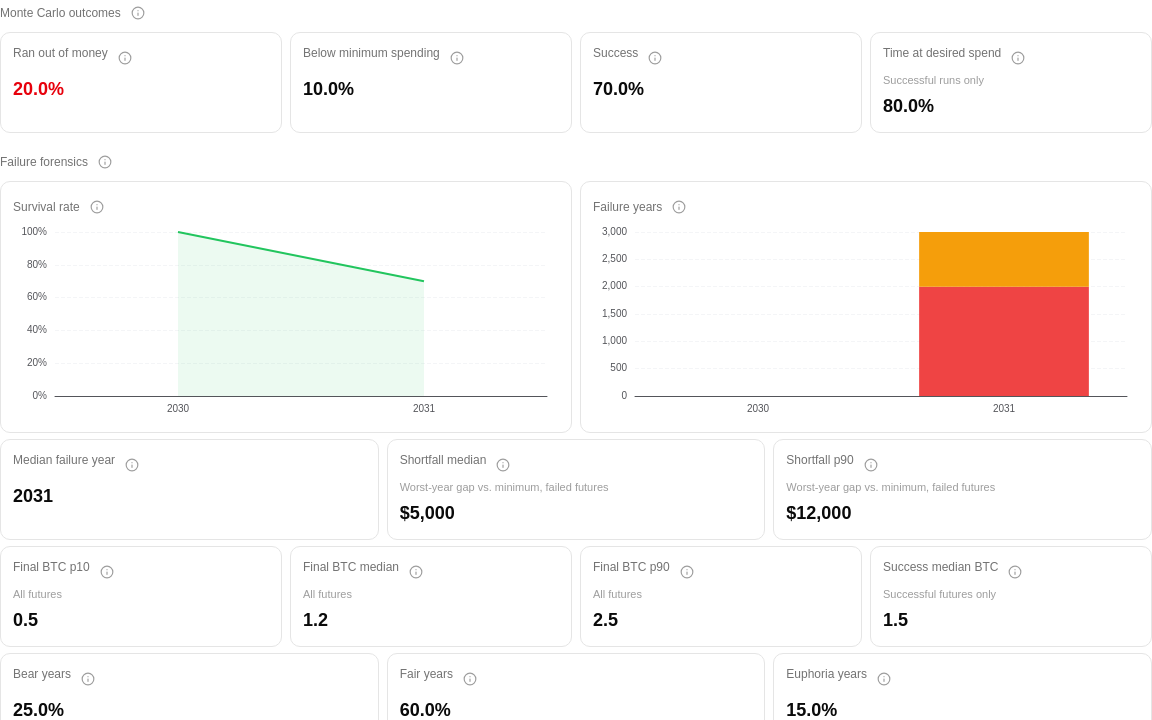
WithdrawalResults › shows info buttons for each forensics metric
The image size is (1152, 720).
Expected: the button named "About Failure forensics" is shown, [92, 149, 118, 175]
Expected: the button named "About Survival rate" is shown, [84, 194, 110, 220]
Click the button named "About Median failure year" at (132, 465), box [119, 452, 145, 478]
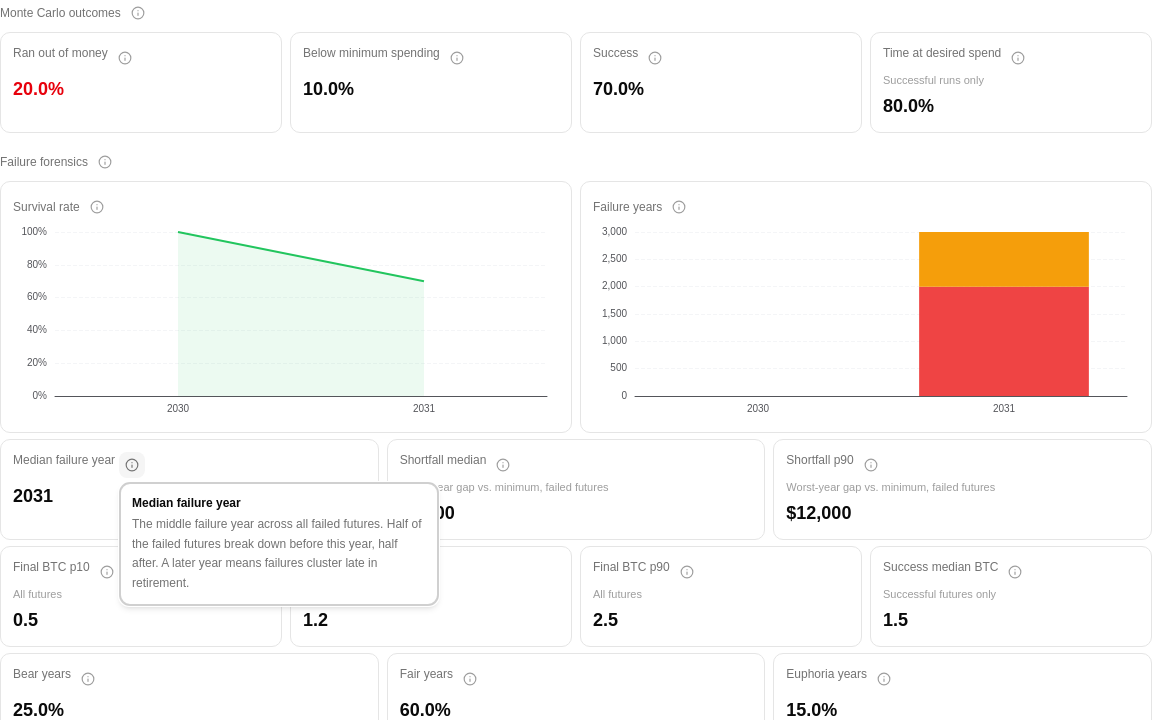
Expected: the text "middle failure year" is shown, [132, 517, 422, 590]
